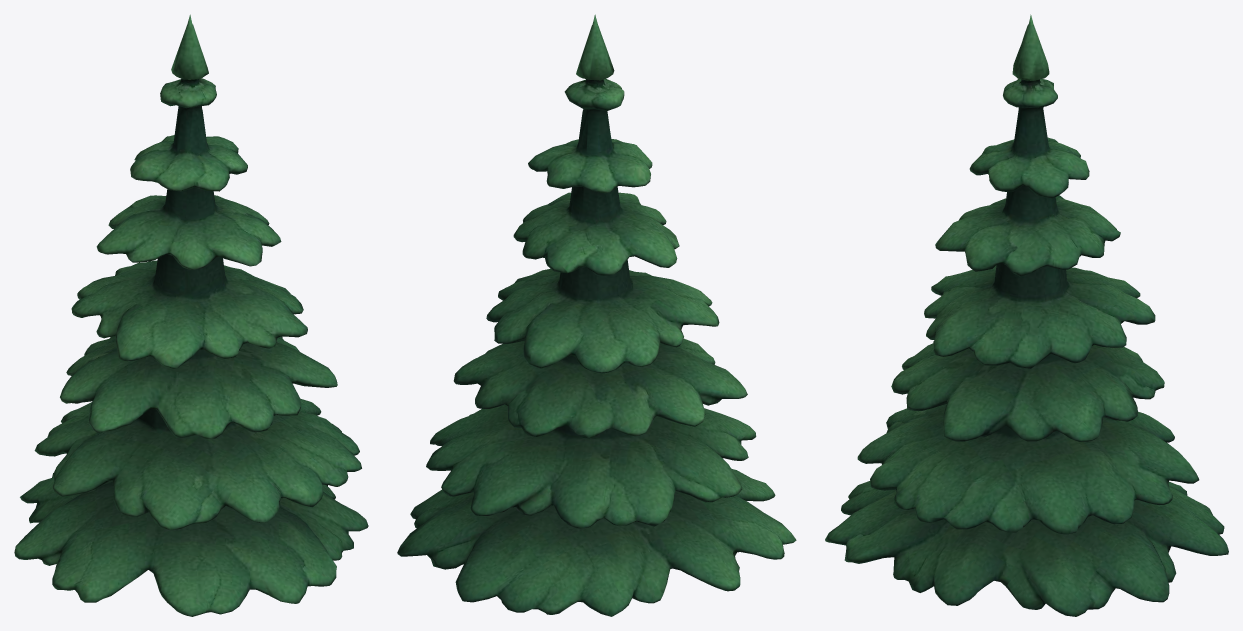
The model's file is pine_a.glb.
3 renders of one model, left to right at view 1: azimuth 30°, elevation 25°; view 2: azimuth 150°, elevation 25°; view 3: azimuth 270°, elevation 25°, orthographic.
Parts seen in each view (by area): view 1: pine_a_crown0; view 2: pine_a_crown0; view 3: pine_a_crown0.
Part boxes in pixels (x1,y1,x2,y2): pine_a_crown0: (14,14,368,616); pine_a_crown0: (397,14,796,616); pine_a_crown0: (825,14,1228,616).
Size of the model in its own units: 2.86 by 4.75 by 3.08.
2 materials, 2 textured.
